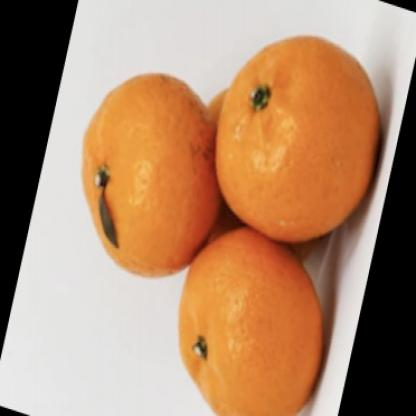orange: (220, 27, 390, 242), (83, 59, 221, 281), (175, 224, 331, 416)
